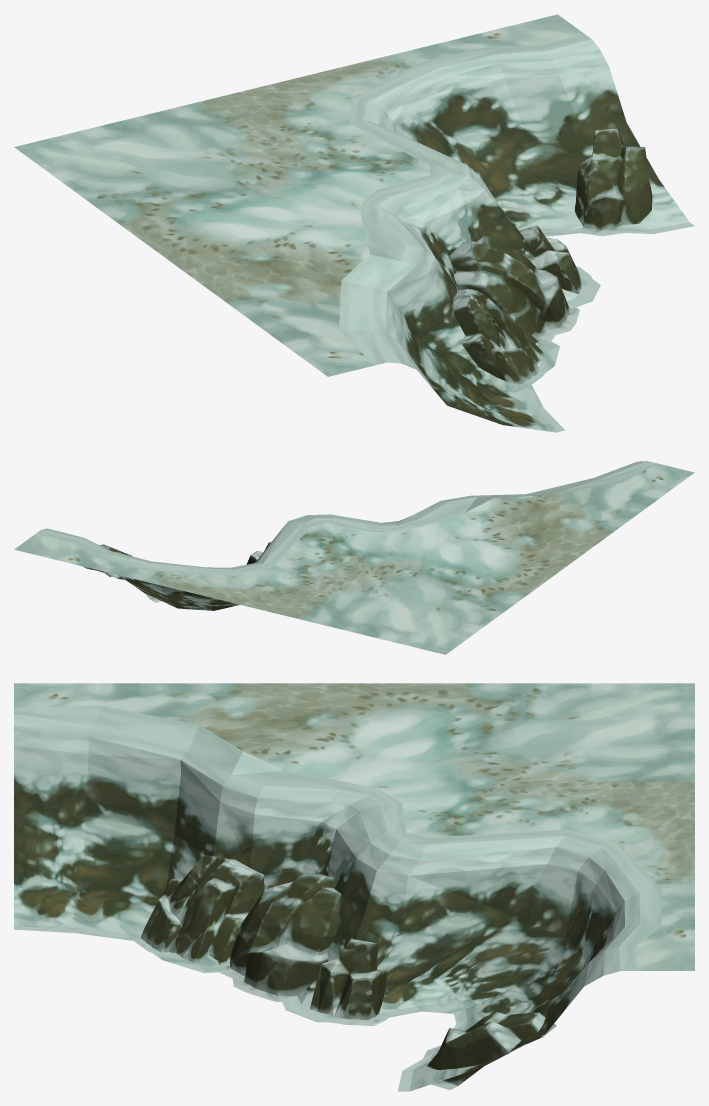
Rendered from tundra_concave_basecap01.fbx.
3 renders of one model, top to bottom at view 1: azimuth 30°, elevation 25°; view 2: azimuth 150°, elevation 25°; view 3: azimuth 270°, elevation 25°, orthographic. The views are drawn at different scales.
Visible parts, largest first — view 1: obj4.002; view 2: obj4.002; view 3: obj4.002.
Boxes of the visible parts, <box> form: obj4.002: <box>14,14,694,432</box>; obj4.002: <box>14,461,694,654</box>; obj4.002: <box>14,683,694,1091</box>.
Bounding box in the file's own units: 20.33 × 4.38 × 20.33.
